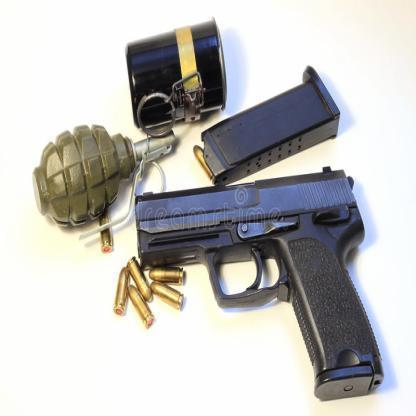Grenade: (33, 122, 175, 242)
Pistol: (135, 168, 385, 402)
